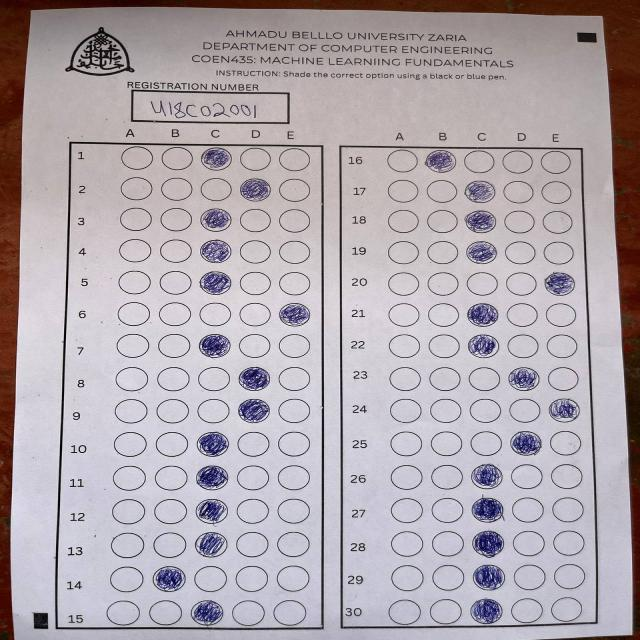bubble: (472, 530, 505, 558), (153, 566, 186, 592), (195, 499, 228, 525), (195, 532, 228, 558), (191, 600, 224, 626), (200, 146, 232, 172), (510, 430, 542, 456), (473, 564, 505, 590), (238, 398, 271, 423), (471, 497, 504, 522), (470, 598, 502, 623), (196, 466, 229, 490), (200, 208, 232, 232), (467, 303, 499, 327), (197, 432, 229, 456), (470, 464, 502, 488), (199, 271, 232, 294), (200, 239, 231, 263), (239, 367, 270, 391), (544, 272, 575, 296), (508, 367, 539, 391), (198, 334, 230, 357), (464, 210, 496, 233), (548, 398, 580, 421), (240, 178, 271, 201), (464, 180, 495, 203), (468, 334, 499, 357), (425, 150, 456, 172), (279, 304, 310, 326), (466, 241, 497, 263)
